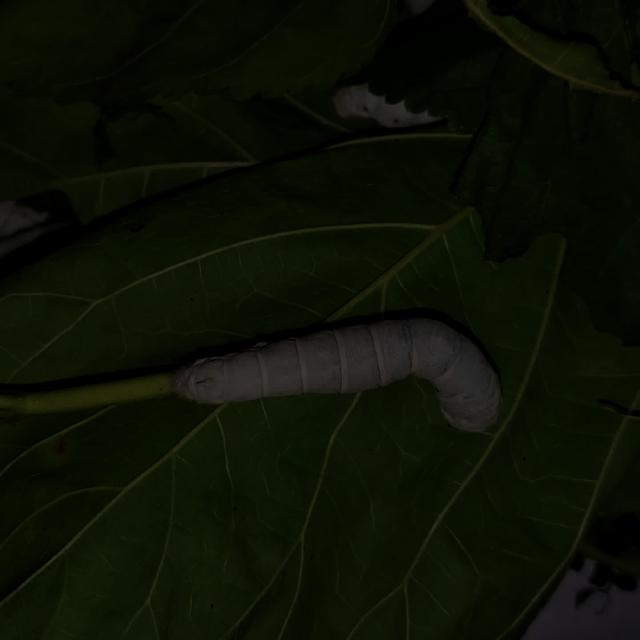Healthy: (170, 299, 514, 439)
